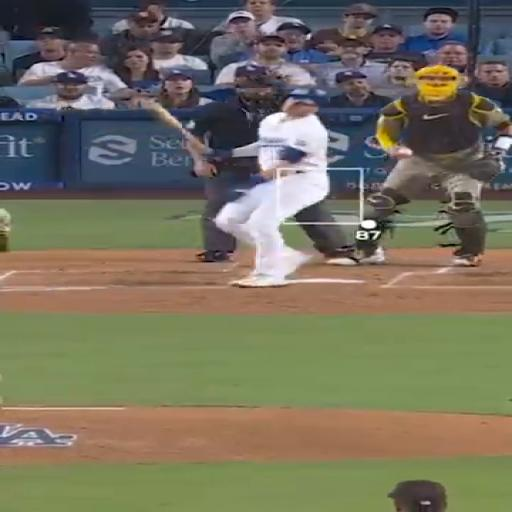bat: (148, 103, 209, 154)
